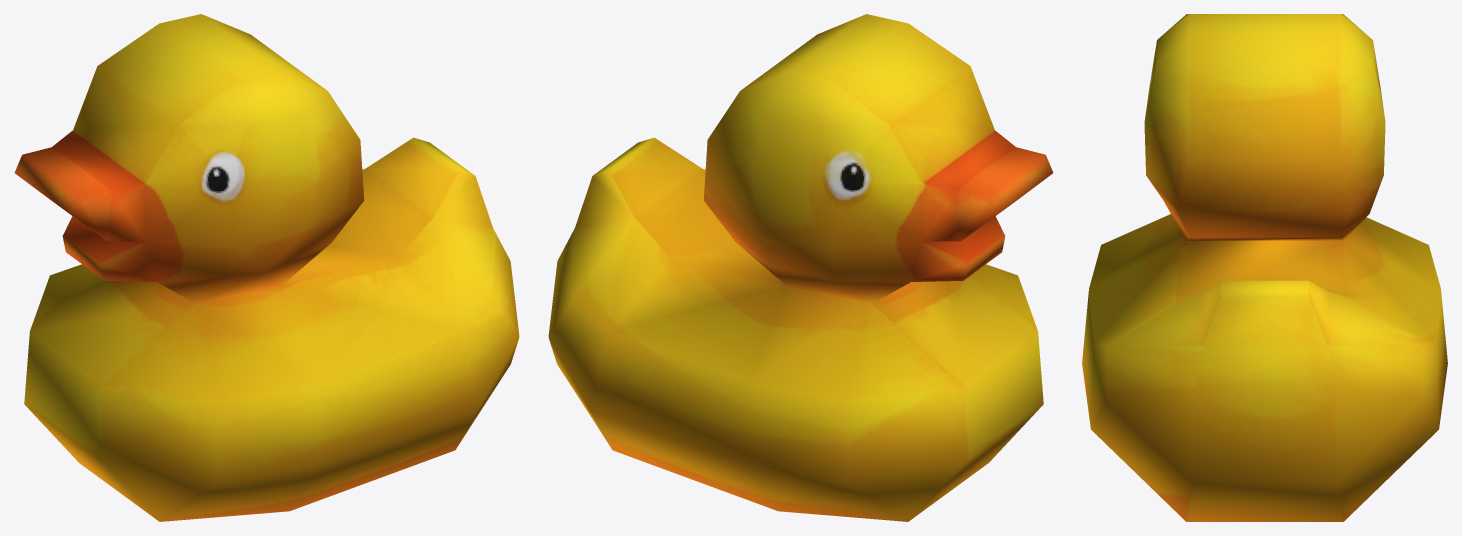
Rendered from Duck.fbx.
3 views of the same model, side by side, from view 1: azimuth 30°, elevation 25°; view 2: azimuth 150°, elevation 25°; view 3: azimuth 270°, elevation 25° (orthographic). The views are drawn at different scales.
Parts seen in each view (by area): view 1: Plane; view 2: Plane; view 3: Plane.
Boxes of the visible parts, left/top/right/bottom form: Plane: left=14, top=14, right=519, bottom=521; Plane: left=548, top=14, right=1053, bottom=521; Plane: left=1082, top=14, right=1447, bottom=521.
Bounding box in the file's own units: 19.4 × 18.86 × 14.79.
